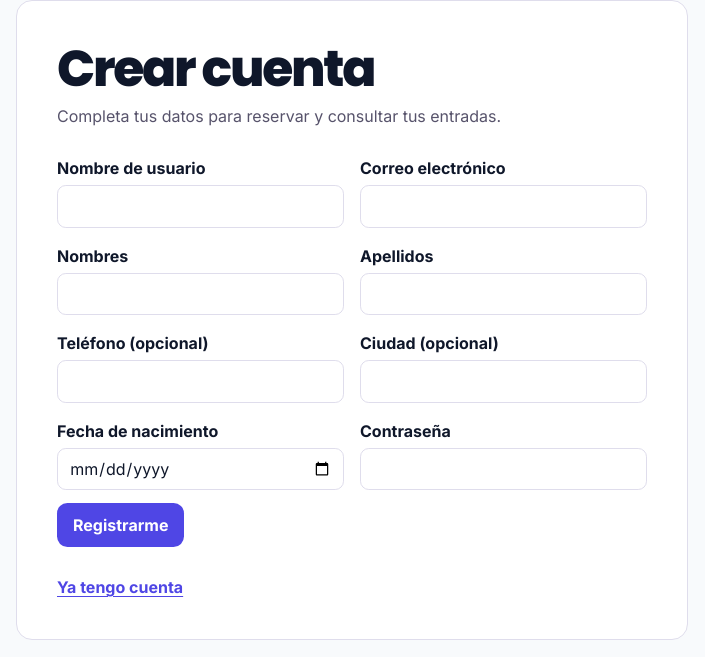
Test: registro exitoso redirige al login con un mensaje
Type "pulse" into the field labelled "Nombre de usuario".
click(200, 206); type("pulse")  # box [57,185,344,228]
Type "pulse@example.com" into the field labelled "Correo electrónico".
click(504, 206); type("pulse@example.com")  # box [360,185,647,228]
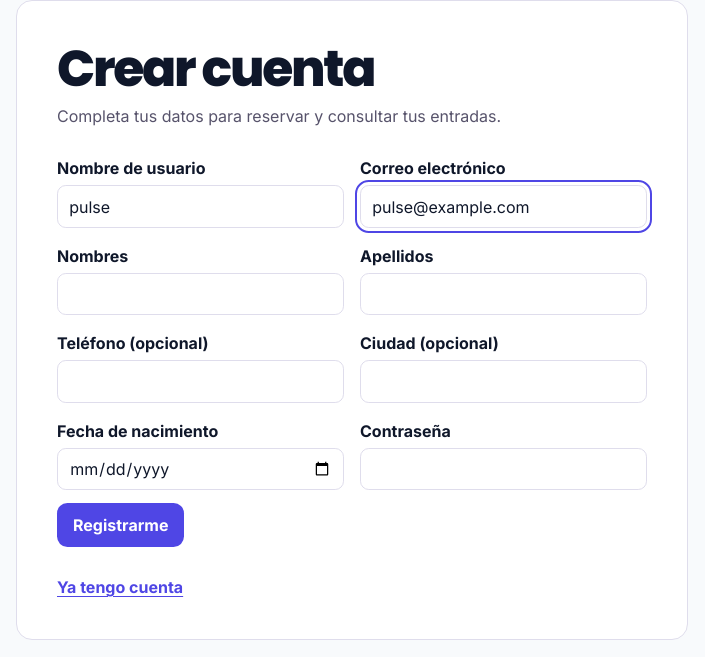
Type "Andrea" into the field labelled "Nombres".
click(200, 294); type("Andrea")  # box [57,273,344,315]
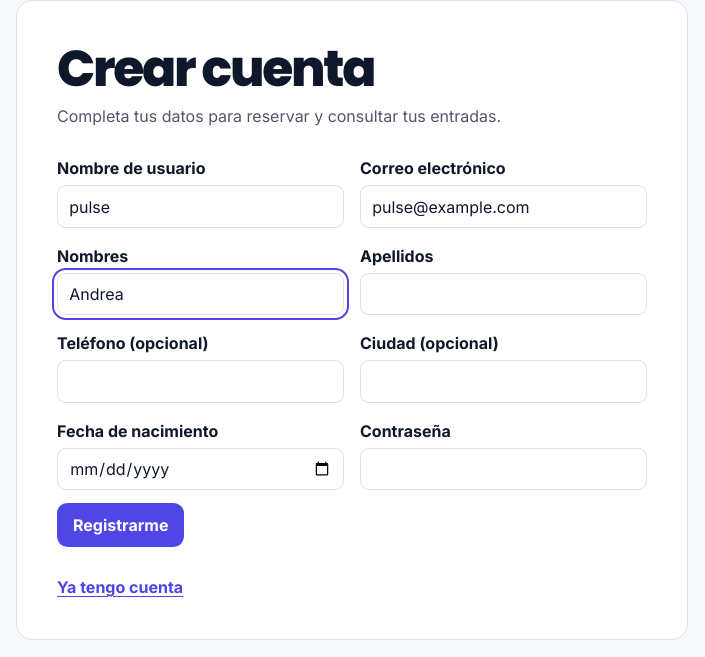
Type "Pérez" into the field labelled "Apellidos".
click(504, 294); type("Pérez")  # box [360,273,647,315]
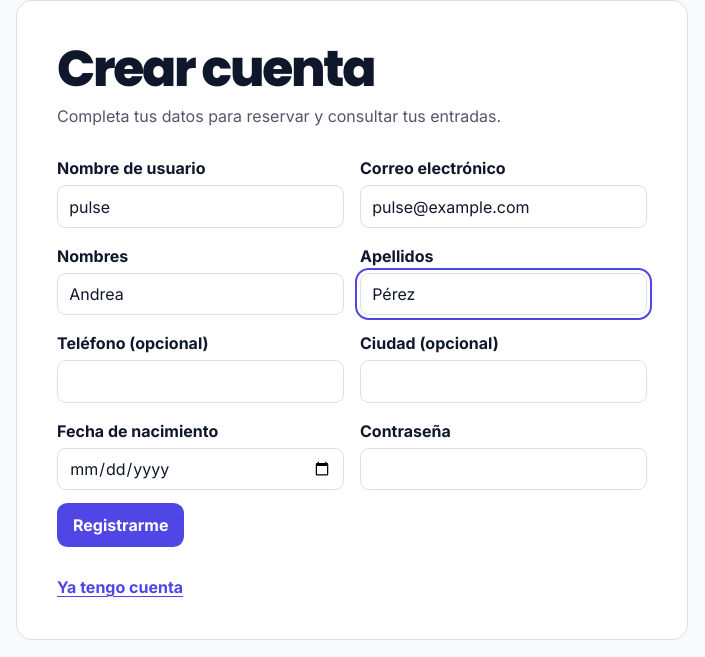
Type "1998-08-01" into the date field labelled "Fecha de nacimiento".
click(200, 469); type("1998-08-01")  # box [57,448,344,490]
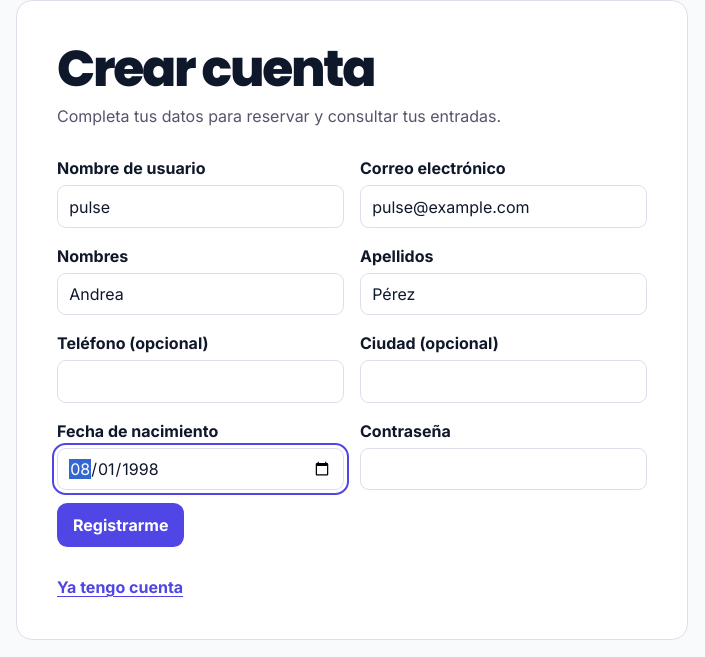
Type "pass-segura-123" into the password field labelled "Contraseña".
click(504, 469); type("pass-segura-123")  # box [360,448,647,490]
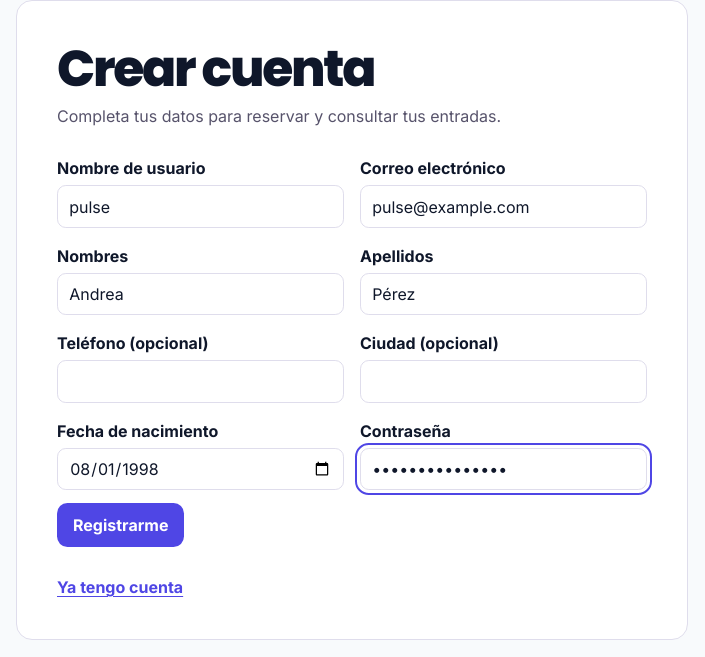
Click the button "Registrarme".
click(121, 525)  # box [57,503,184,547]
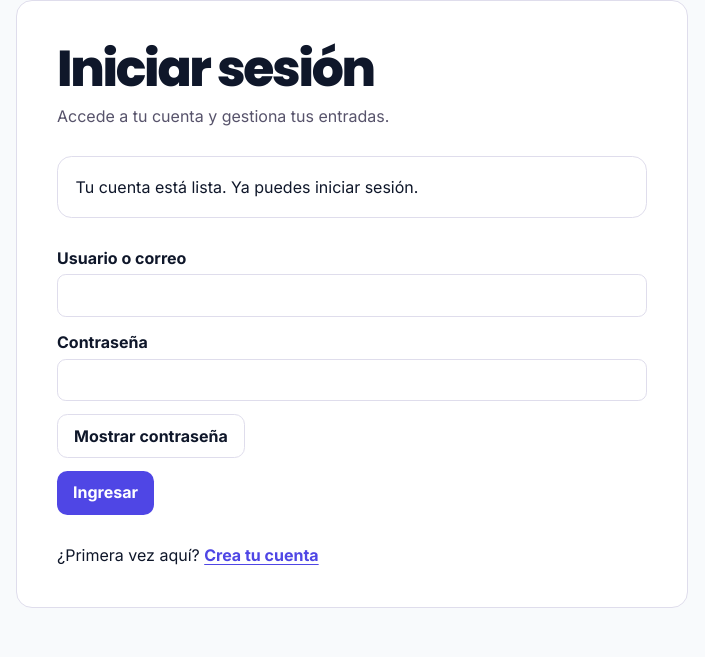
expect the heading "Iniciar sesión" is shown: met, box [57,33,374,104]
expect the message shows "Tu cuenta está lista": met, box [76,177,418,197]
